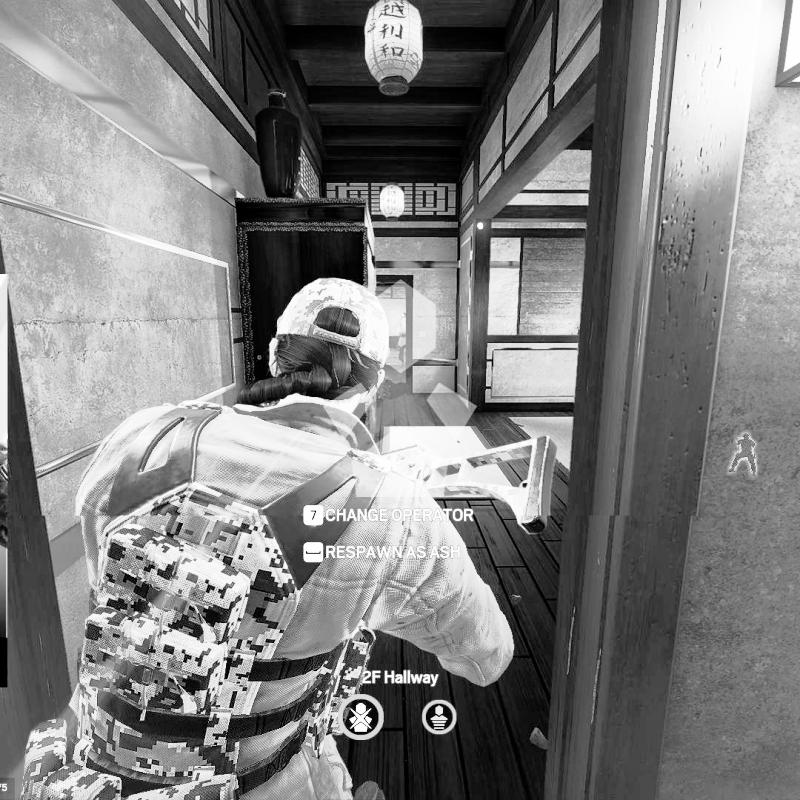Character: (14, 273, 522, 800), (396, 312, 407, 366)
Head: (266, 275, 390, 409), (400, 313, 406, 321)
